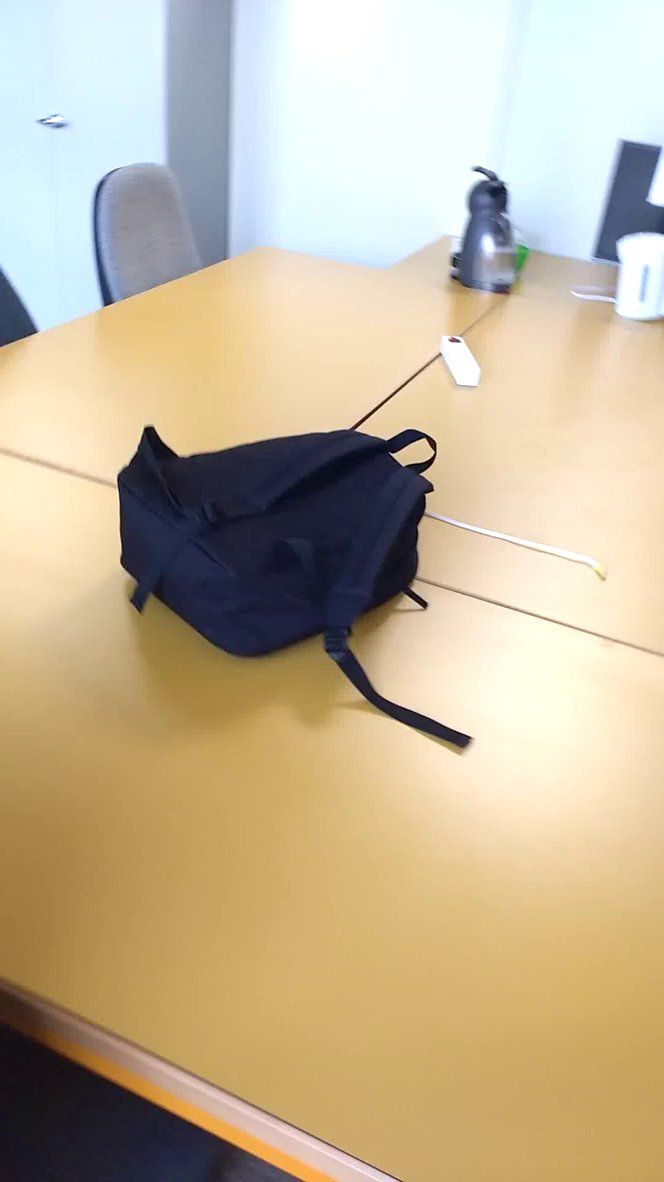bag: (106, 403, 489, 766)
chair: (81, 146, 226, 318)
